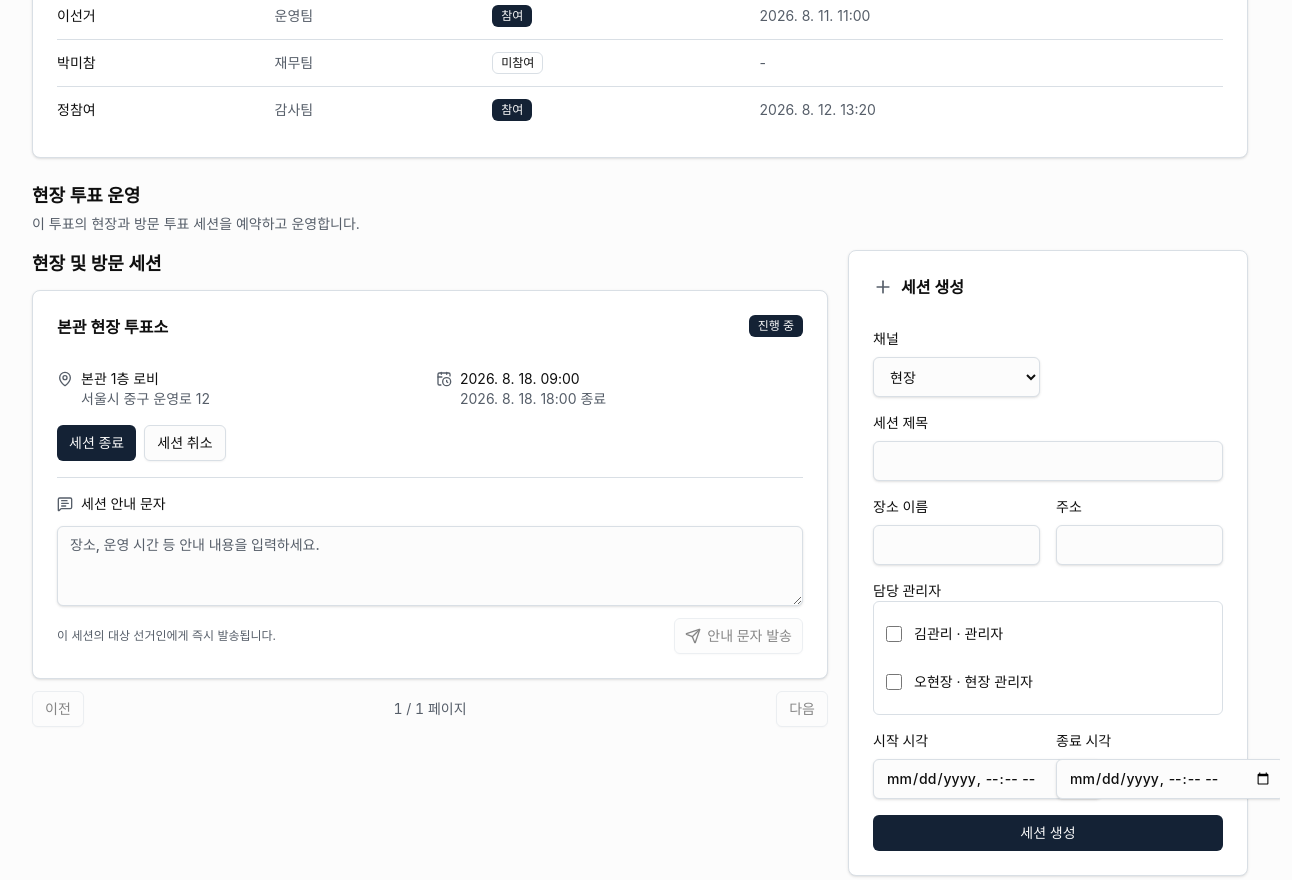
Scenario: vote containers › operates field sessions from the vote detail
(page scrolled)
Expected: the heading "현장 투표 운영" is shown, x1=32 y1=185 x2=140 y2=206
Expected: the heading "현장 및 방문 세션" is shown, x1=32 y1=253 x2=162 y2=274
Type "본관 1층 운영 시간을 확인해 주세요." into the text box named "본관 현장 투표소 안내 문자" at (430, 566), box x1=57 y1=526 x2=803 y2=606
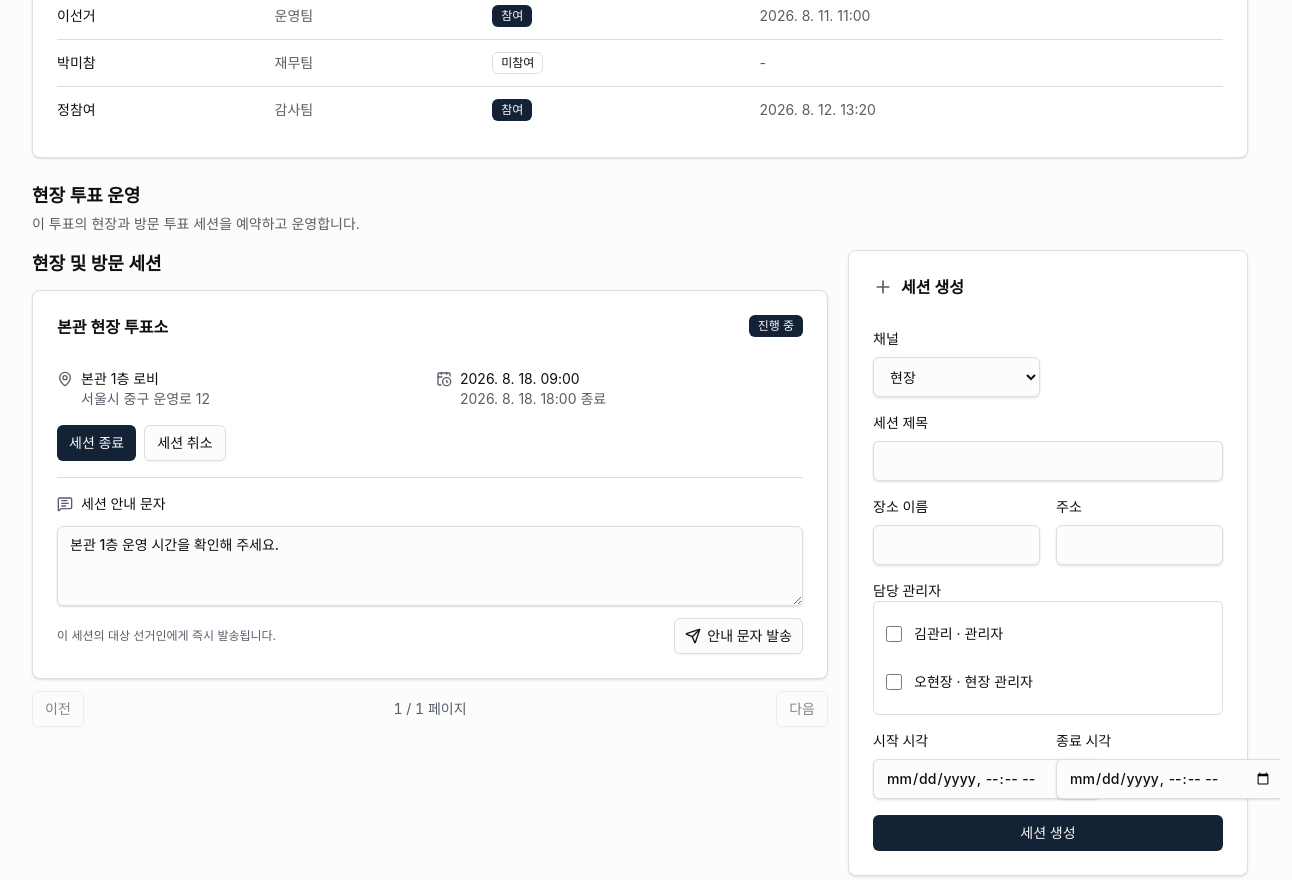
Click the button with aria-label "본관 현장 투표소 안내 문자 발송" at (739, 636), box x1=674 y1=618 x2=803 y2=654
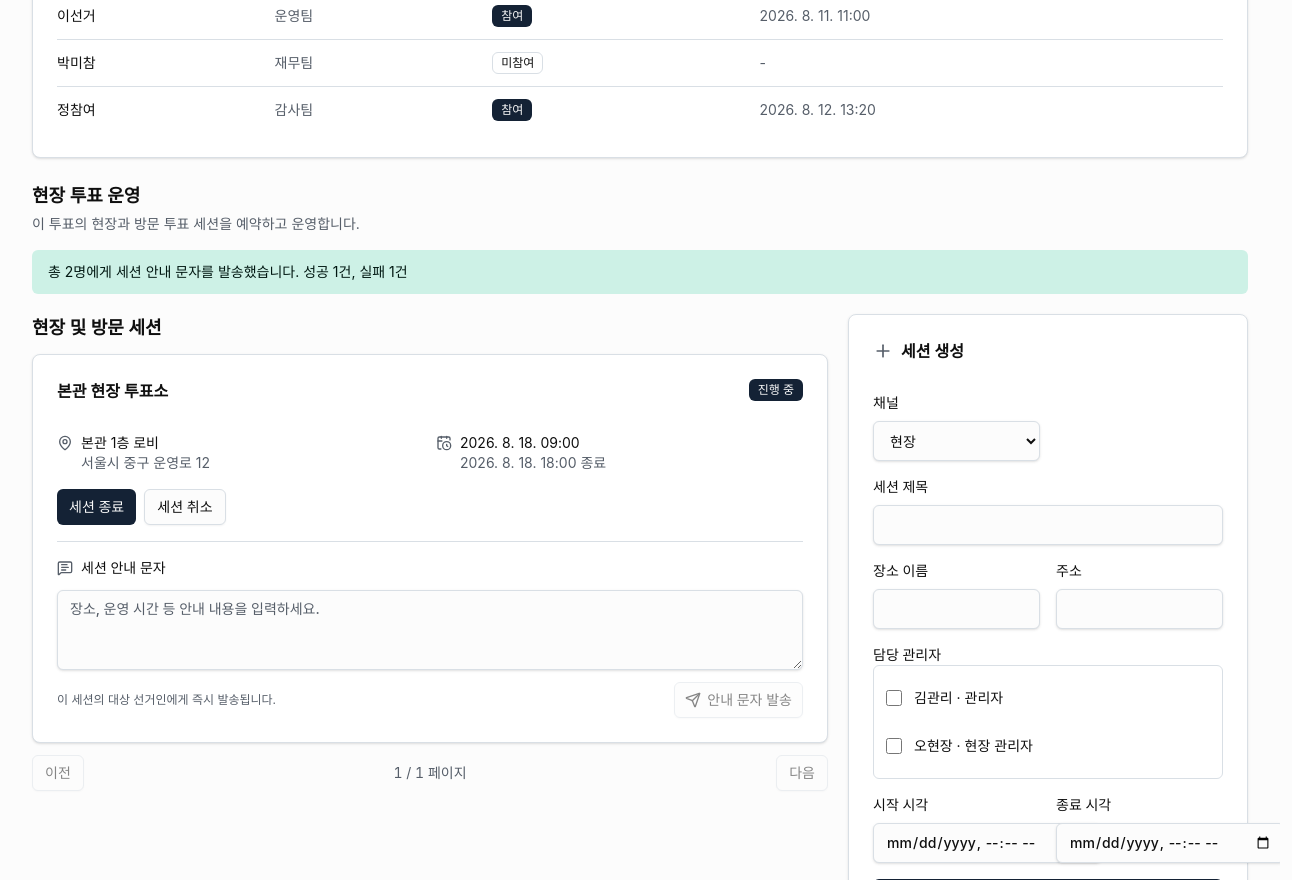
Expected: the text "총 2명에게 세션 안내 문자를 발송했습니다. 성공 1건, 실패 1건" is shown, x1=32 y1=250 x2=1248 y2=294
Expected: the text box named "본관 현장 투표소 안내 문자" is empty, x1=57 y1=590 x2=803 y2=670
